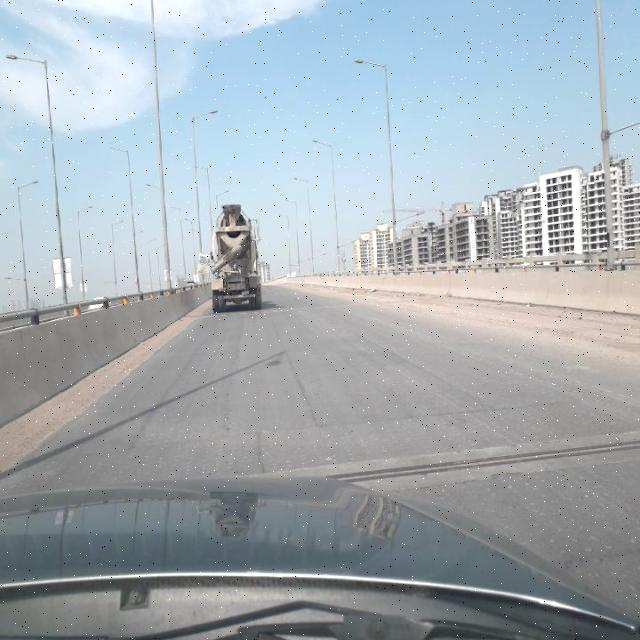D00: (250, 429, 276, 476)
